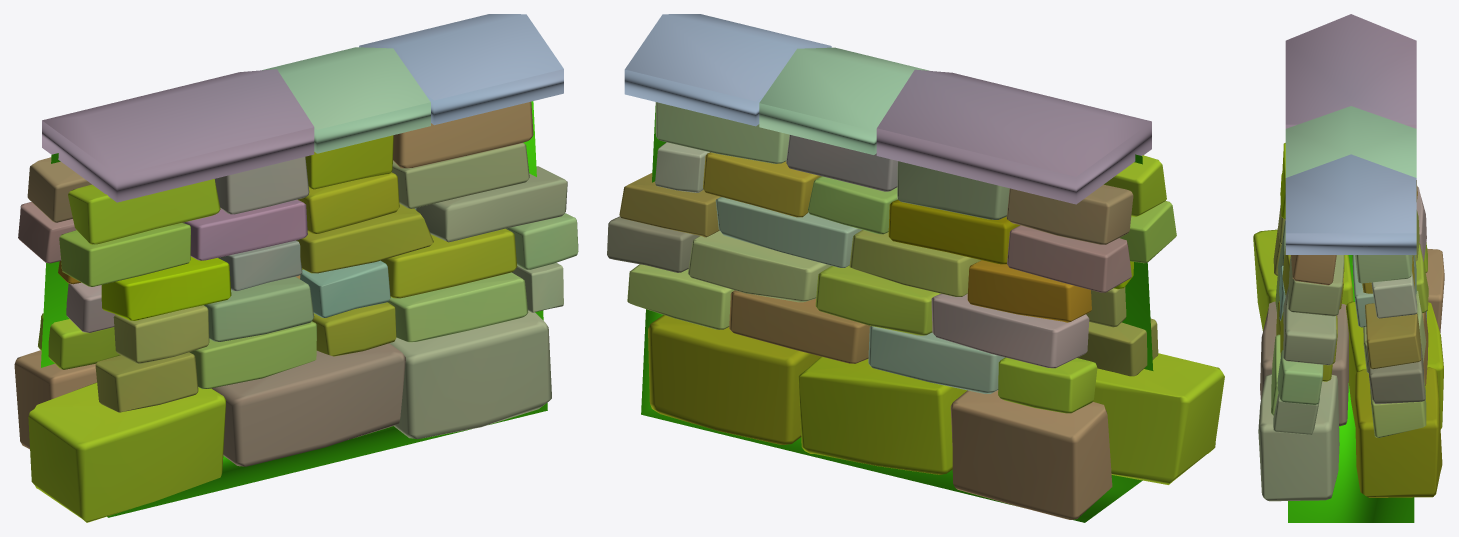
File: SM_Prop_wall_stone_20.glb
The picture shows the model from 3 angles, left to right: view 1: azimuth 30°, elevation 25°; view 2: azimuth 150°, elevation 25°; view 3: azimuth 270°, elevation 25°; orthographic projection. The views are drawn at different scales.
Visible parts, largest first — view 1: SM_Prop_wall_stone_20; view 2: SM_Prop_wall_stone_20; view 3: SM_Prop_wall_stone_20.
Boxes of the visible parts, left/top/right/bottom form: SM_Prop_wall_stone_20: left=14, top=14, right=578, bottom=522; SM_Prop_wall_stone_20: left=607, top=14, right=1224, bottom=522; SM_Prop_wall_stone_20: left=1253, top=14, right=1444, bottom=522.
Size of the model in its own units: 2.34 by 1.59 by 0.8484.
